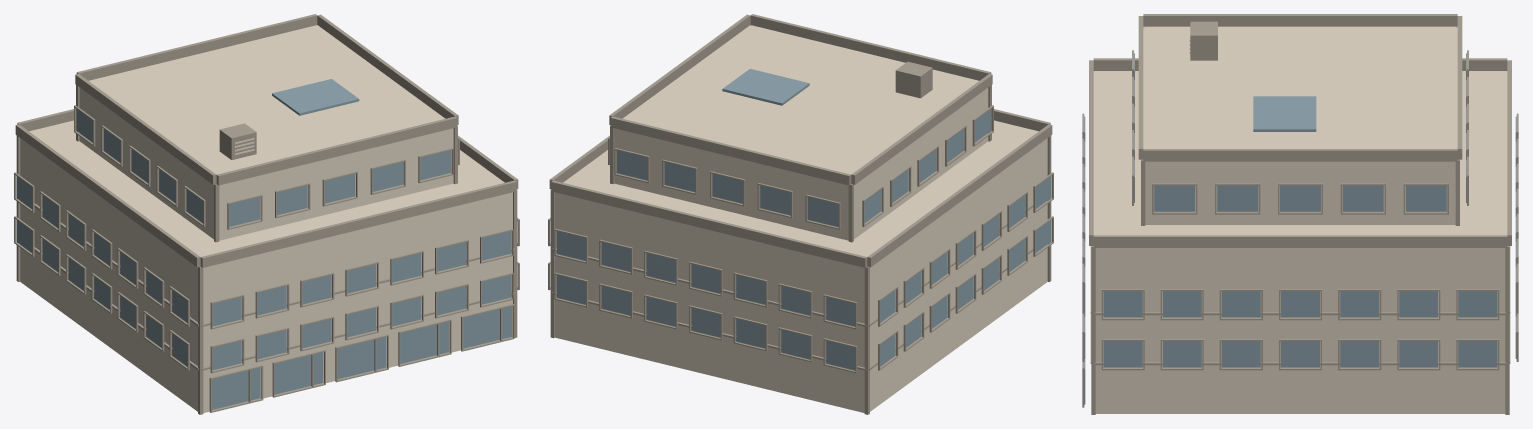
The model's file is lot_3x3.glb.
3 views of the same model, side by side, from view 1: azimuth 30°, elevation 25°; view 2: azimuth 150°, elevation 25°; view 3: azimuth 270°, elevation 25° (orthographic). The views are drawn at different scales.
Visible parts, largest first — view 1: lot_3x3; view 2: lot_3x3; view 3: lot_3x3.
Boxes of the visible parts, x1,y1,x2,y2 form: lot_3x3: [14, 14, 519, 414]; lot_3x3: [548, 14, 1053, 414]; lot_3x3: [1082, 14, 1518, 414].
Size of the model in its own units: 23.74 by 15.5 by 23.74.
